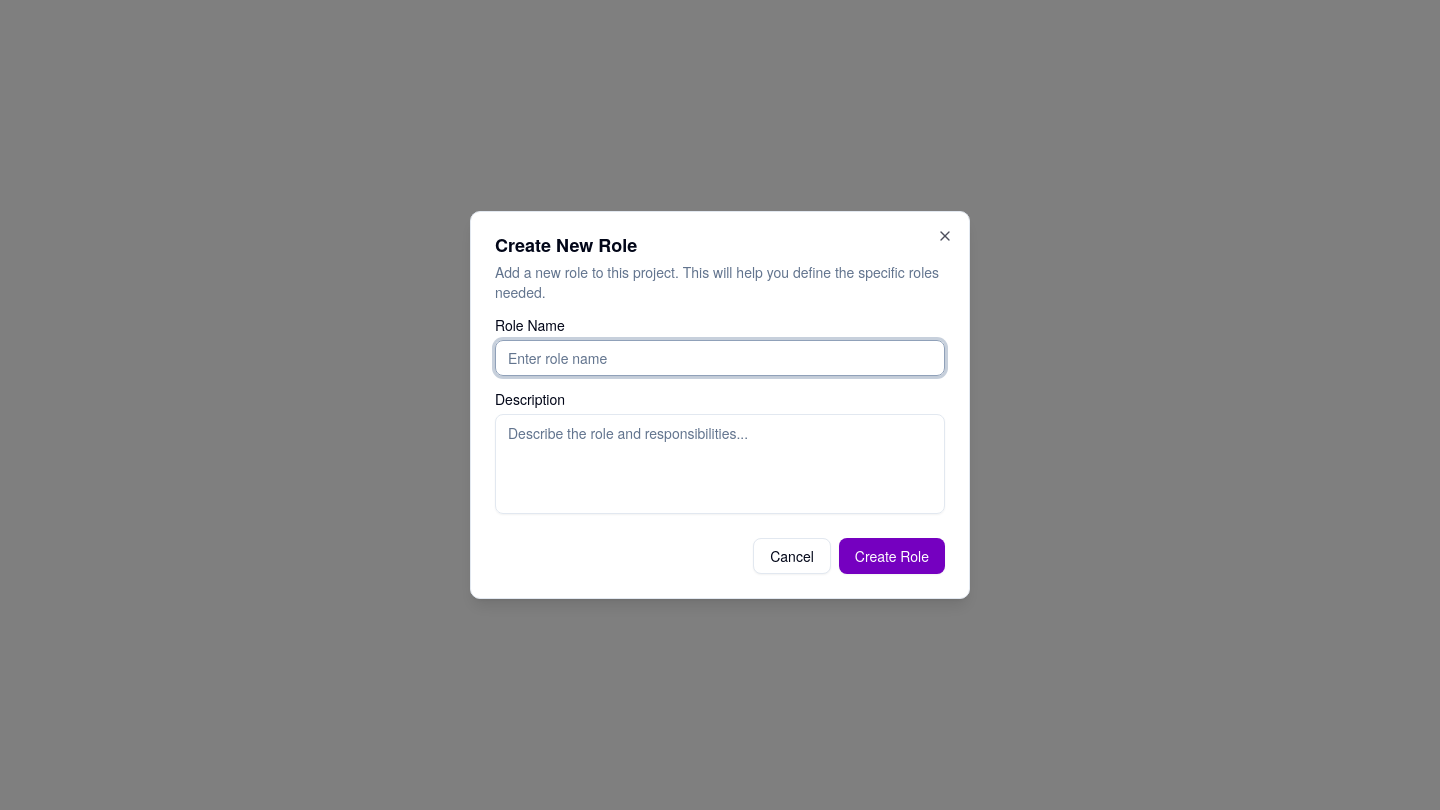
Test: CreateRoleModal › shows loading state during submission
In the field with placeholder "Enter role name": [720, 358] box [495,340,945,376], type "Developer"
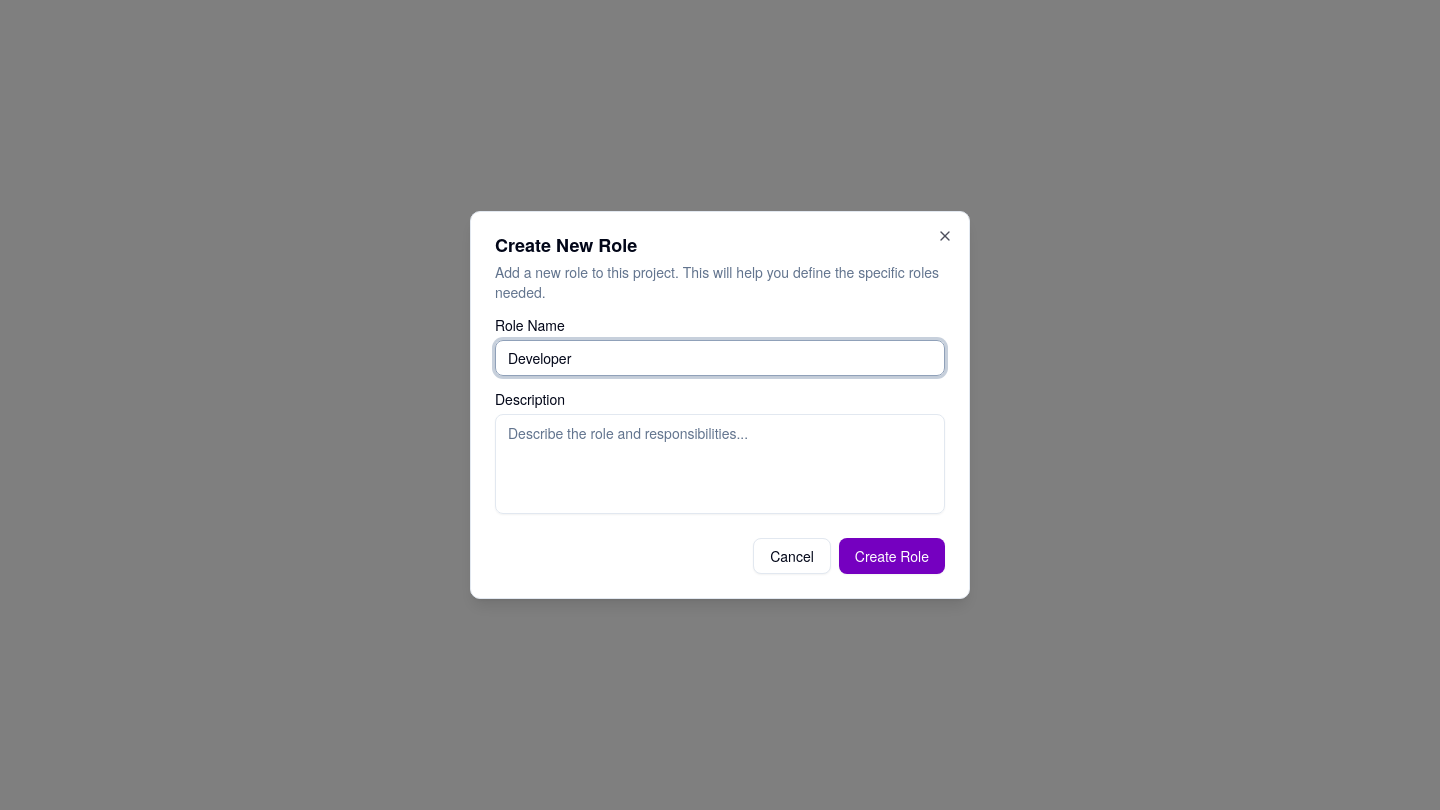
In the text box with placeholder "Describe the role and responsibilities...": [720, 464] box [495,414,945,514], type "Frontend development tasks"
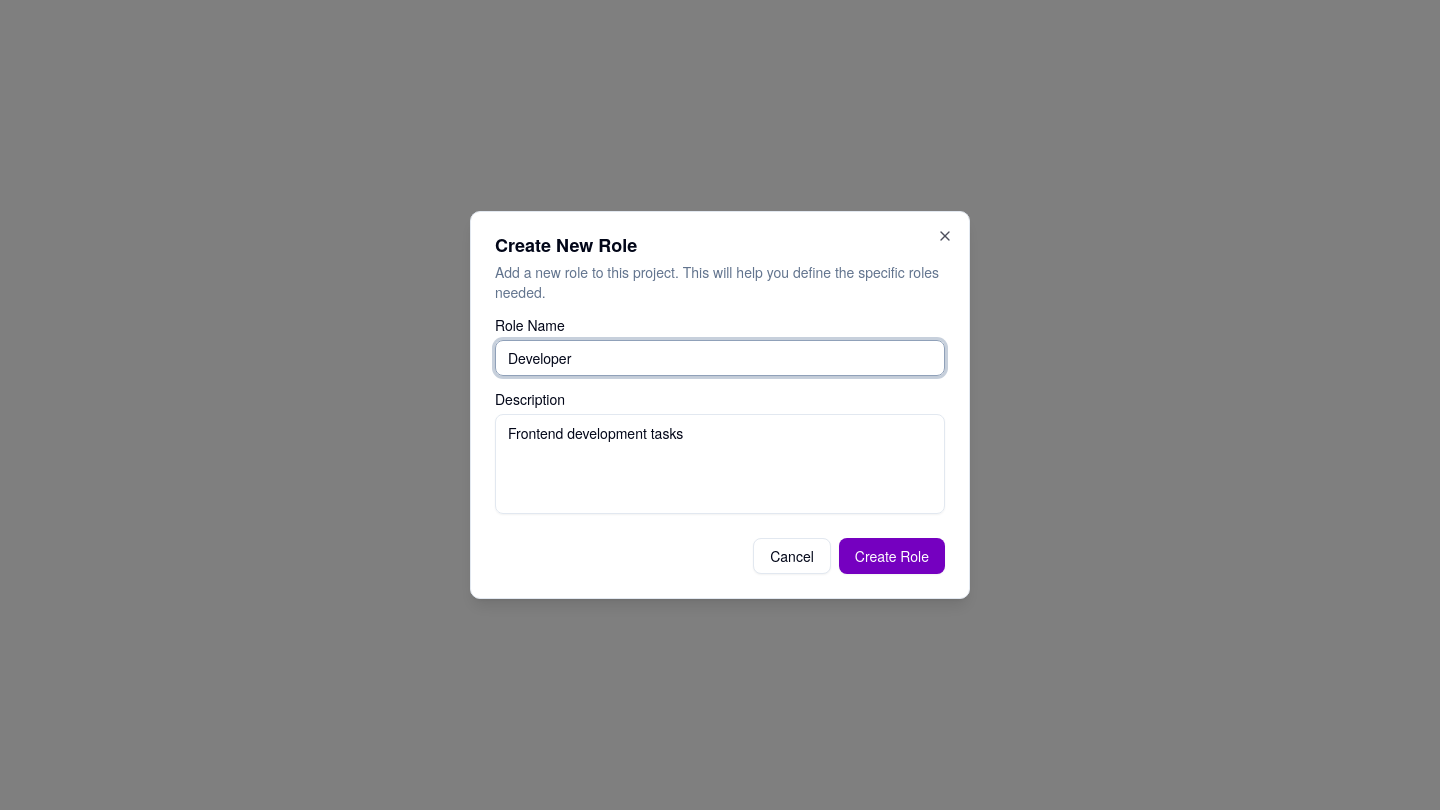
Click the button "Create Role": [892, 556] box [839,538,945,574]
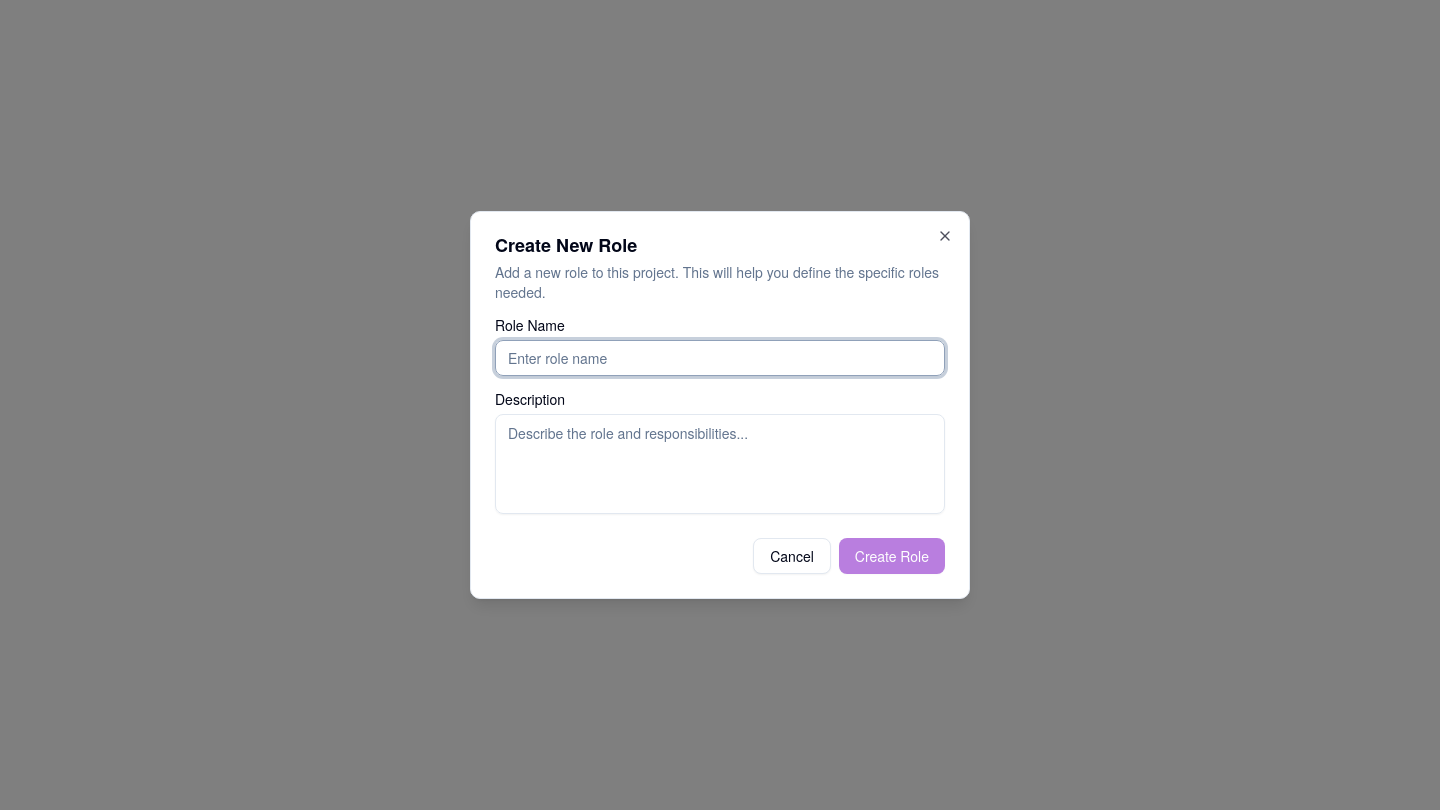
Result: the button "Creating..." is disabled at [839,538,945,574]
